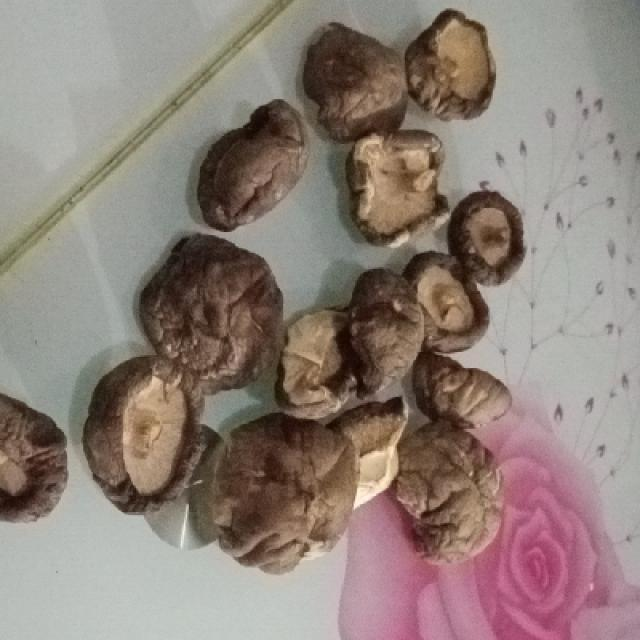Lentinus edodes: (139, 235, 284, 386), (211, 418, 358, 566), (85, 351, 204, 511), (393, 424, 509, 570), (203, 102, 306, 232), (302, 21, 408, 140), (345, 129, 451, 239), (338, 267, 420, 405), (0, 389, 73, 530), (412, 8, 499, 116), (421, 354, 521, 432), (281, 303, 356, 406), (410, 258, 489, 351), (454, 196, 524, 281)
